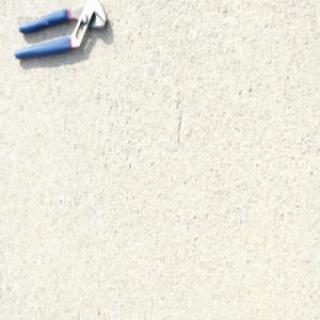Pliertrack_idkeyframe: (11, 0, 107, 59)
